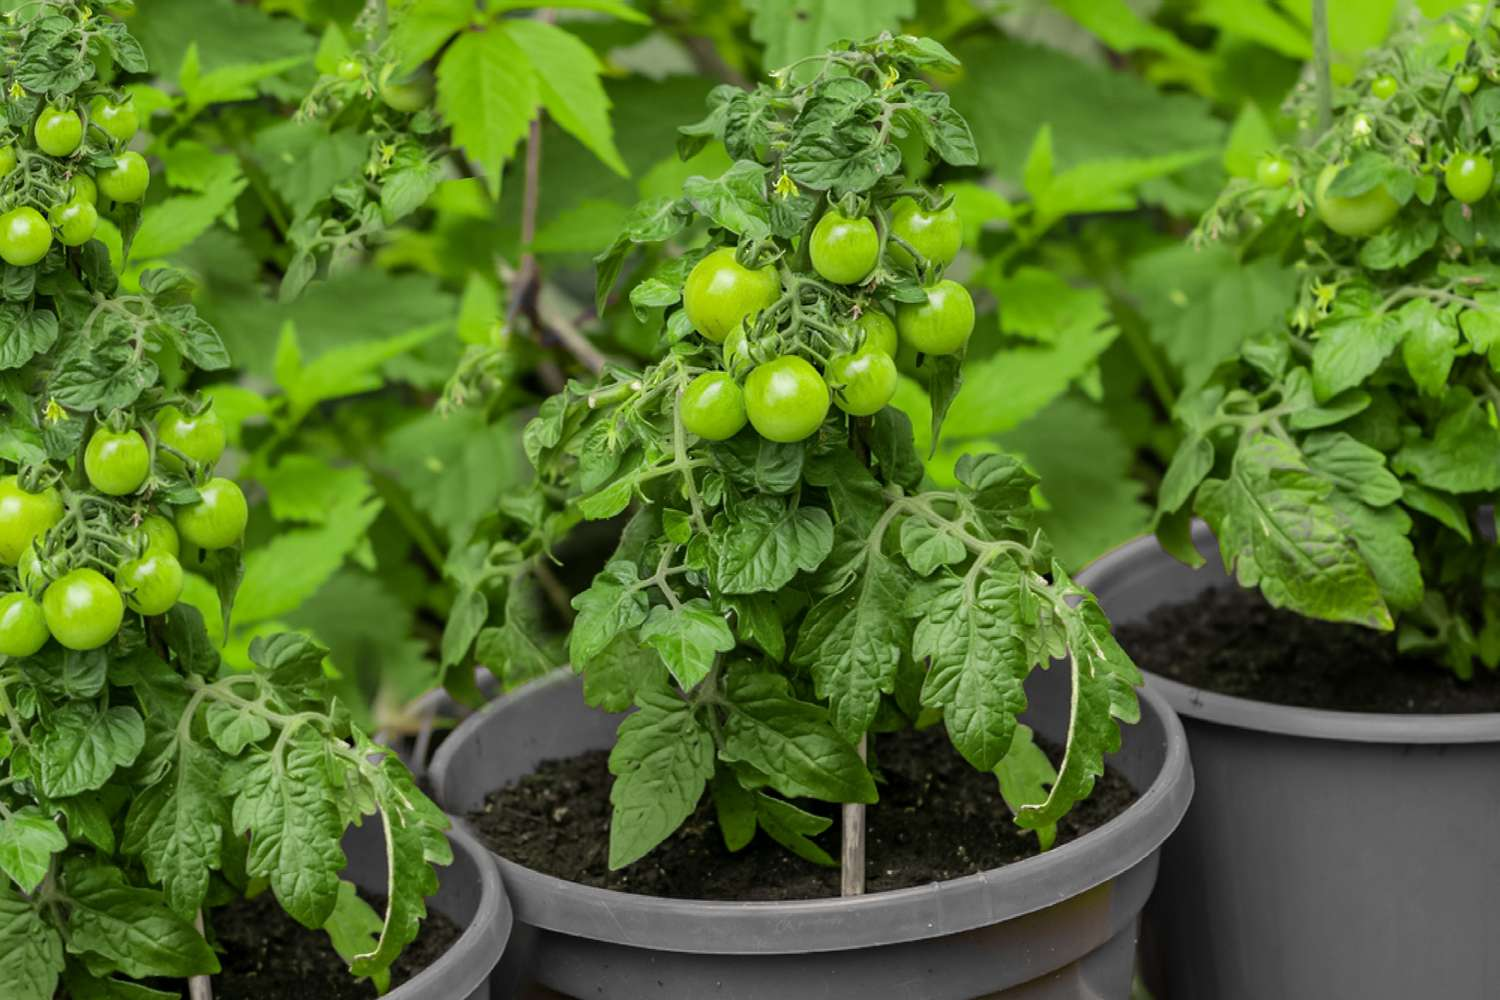tomato: (646, 235, 1015, 480)
